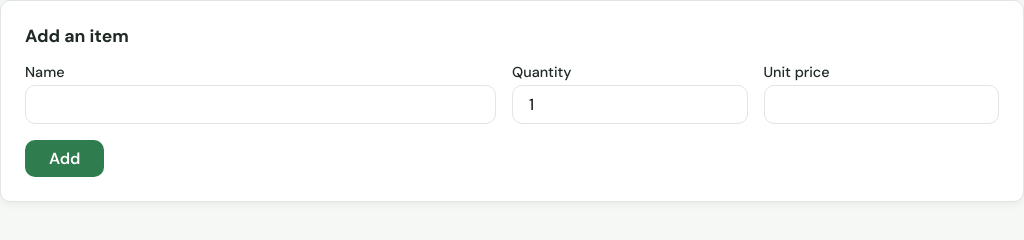
Scenario: GroceryForm - validation › shows the max value in the message
In the field with id "item-name": point(260, 104) [25,85,496,124], type "Egg"
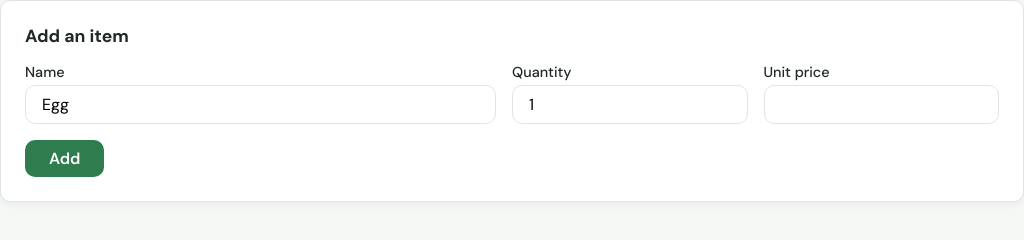
Replace the text in the number field with id "item-quantity" with "99999": point(630, 104) [512,85,748,124]
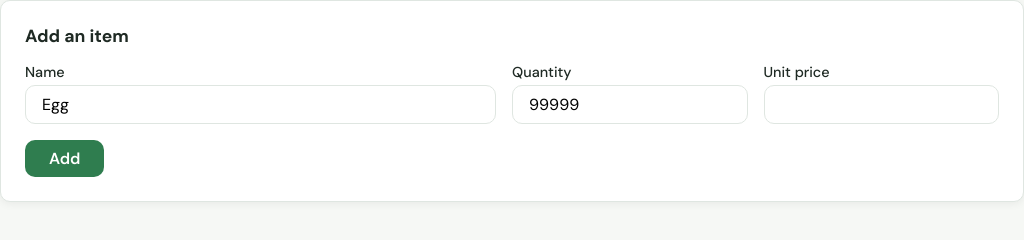
In the number field with id "item-unit-price": point(881, 104) [764,85,999,124], type "1"
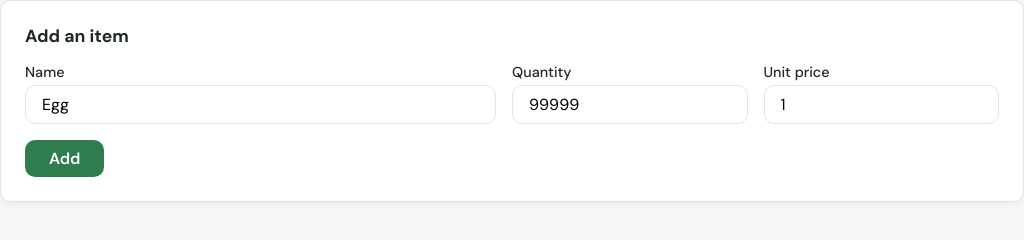
Submit the form
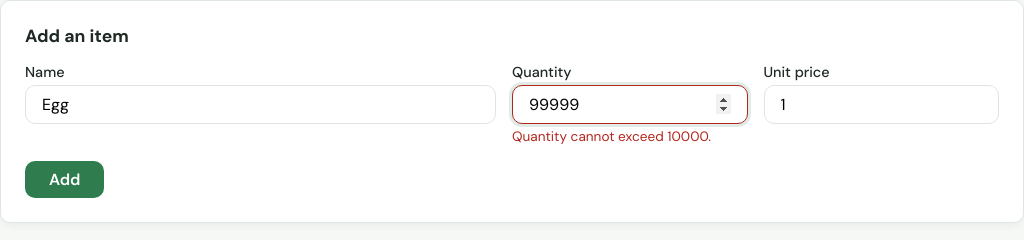
Expected: the text with id "item-quantity-error" reads "Quantity cannot exceed 10000.", [512,128,711,145]
